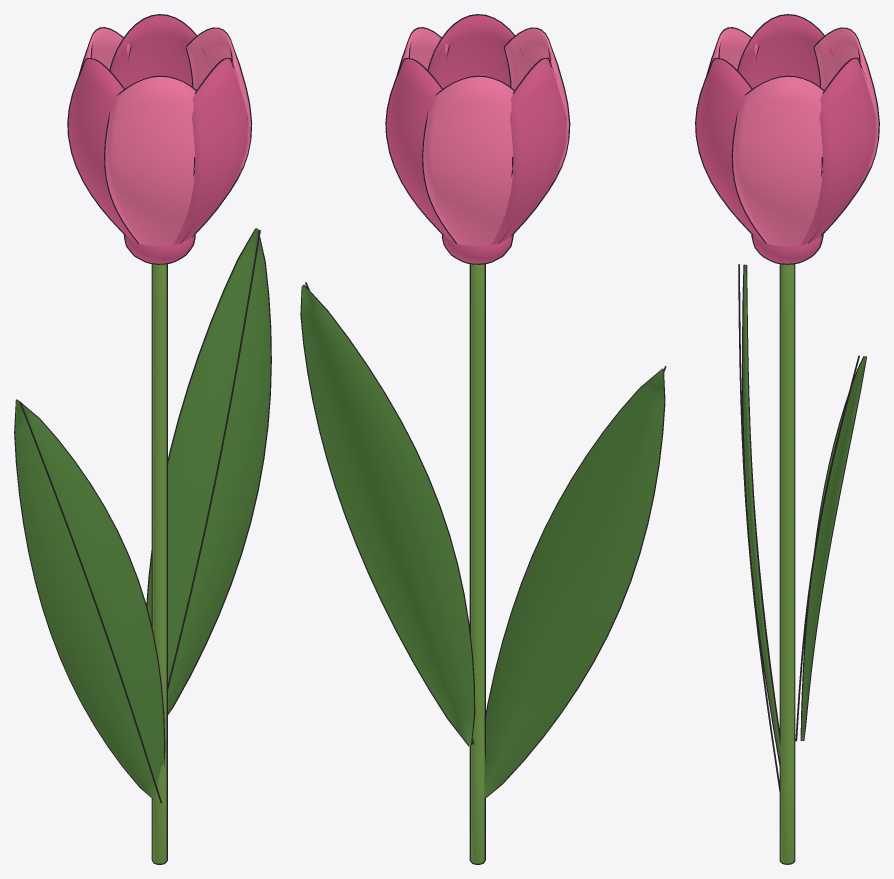
File: tulip_toon.glb
3 renders of one model, left to right at view 1: azimuth 30°, elevation 25°; view 2: azimuth 150°, elevation 25°; view 3: azimuth 270°, elevation 25°, orthographic.
Parts seen in each view (by area): view 1: tulip_Geometry; view 2: tulip_Geometry; view 3: tulip_Geometry.
Boxes of the visible parts, box(x1,y1,x2,y2) form: tulip_Geometry: box(14, 14, 271, 864); tulip_Geometry: box(300, 14, 666, 864); tulip_Geometry: box(695, 14, 879, 864).
Size of the model in its own units: 0.2024 by 0.5152 by 0.1055.
